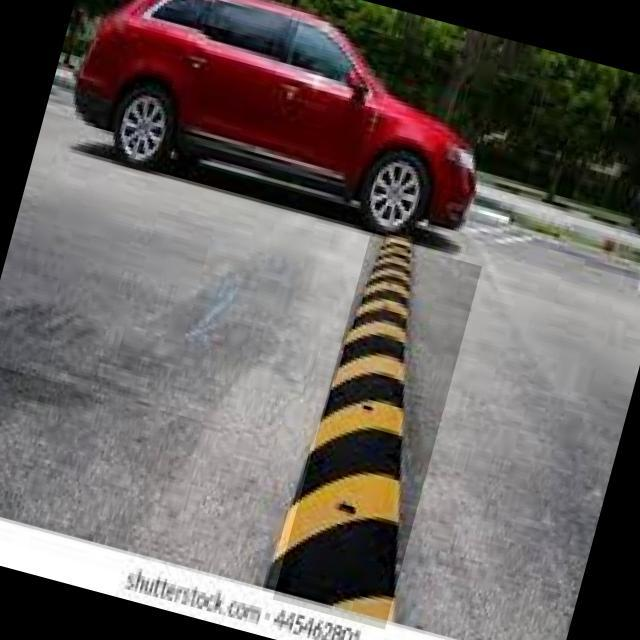speedbreaker: (273, 236, 482, 629)
